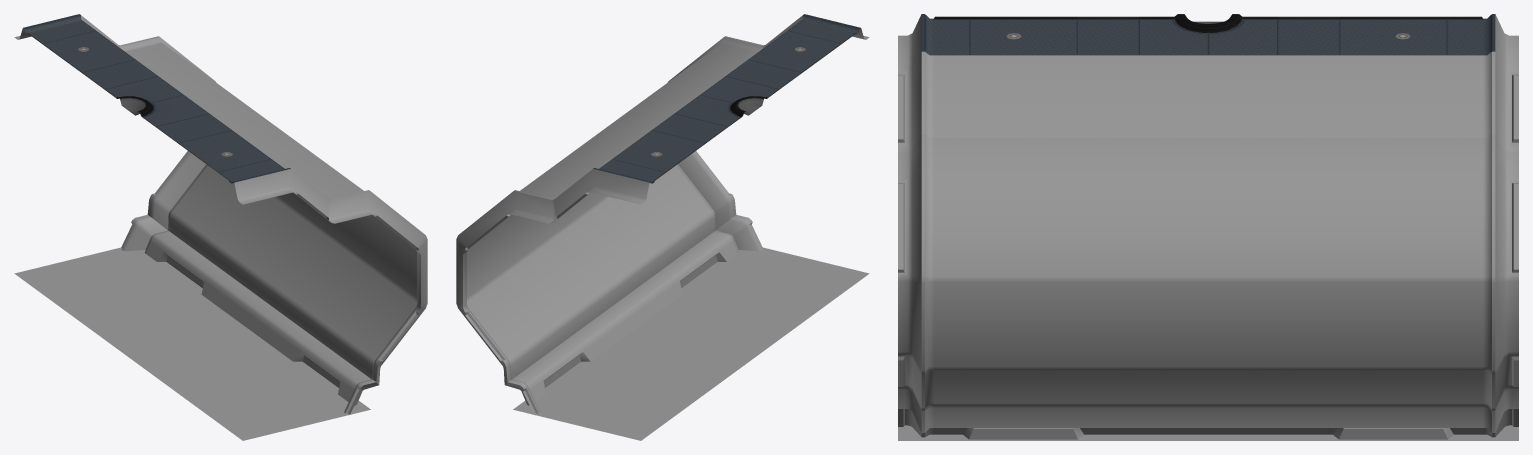
File: Corr_A_5m.fbx
3 renders of one model, left to right at view 1: azimuth 30°, elevation 25°; view 2: azimuth 150°, elevation 25°; view 3: azimuth 270°, elevation 25°, orthographic. The views are drawn at different scales.
Visible parts, largest first — view 1: Corr_A_5m; view 2: Corr_A_5m; view 3: Corr_A_5m.
Part boxes in pixels (bbox=[...]): Corr_A_5m: bbox=[14, 14, 427, 440]; Corr_A_5m: bbox=[456, 14, 869, 440]; Corr_A_5m: bbox=[898, 14, 1518, 440].
Size of the model in its own units: 244 by 304 by 500.
5 materials, 1 textured.
